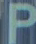Parking: (6, 0, 34, 43)
